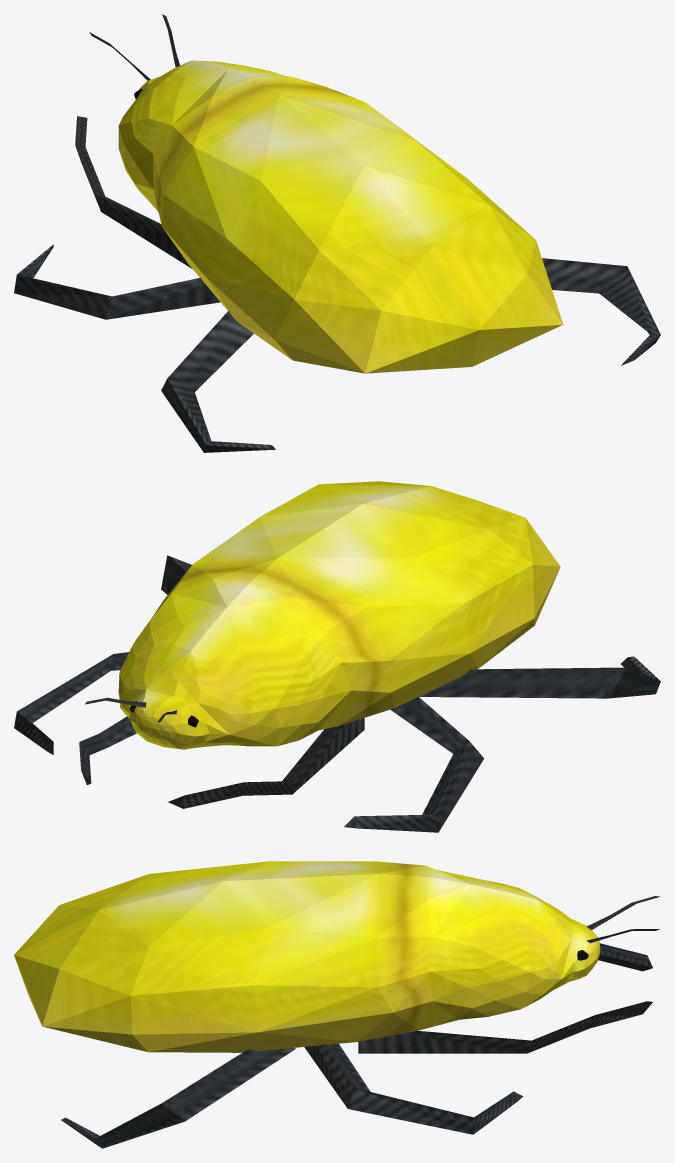
The model's file is beetle.glb.
The picture shows the model from 3 angles, top to bottom: view 1: azimuth 30°, elevation 25°; view 2: azimuth 150°, elevation 25°; view 3: azimuth 270°, elevation 25°; orthographic projection. The views are drawn at different scales.
Parts seen in each view (by area): view 1: ZtoY, legs4; view 2: ZtoY, legs4; view 3: ZtoY, legs4, antenna128.
Boxes of the visible parts, x1,y1,x2,y2 form: ZtoY: (118, 60, 563, 373); legs4: (14, 116, 660, 452); ZtoY: (118, 481, 560, 749); legs4: (14, 555, 660, 832); ZtoY: (14, 861, 600, 1052); legs4: (61, 943, 652, 1148); antenna128: (586, 896, 659, 943).
Bounding box in the file's own units: 4.87 × 1.94 × 6.51.
1 material, 1 textured.
